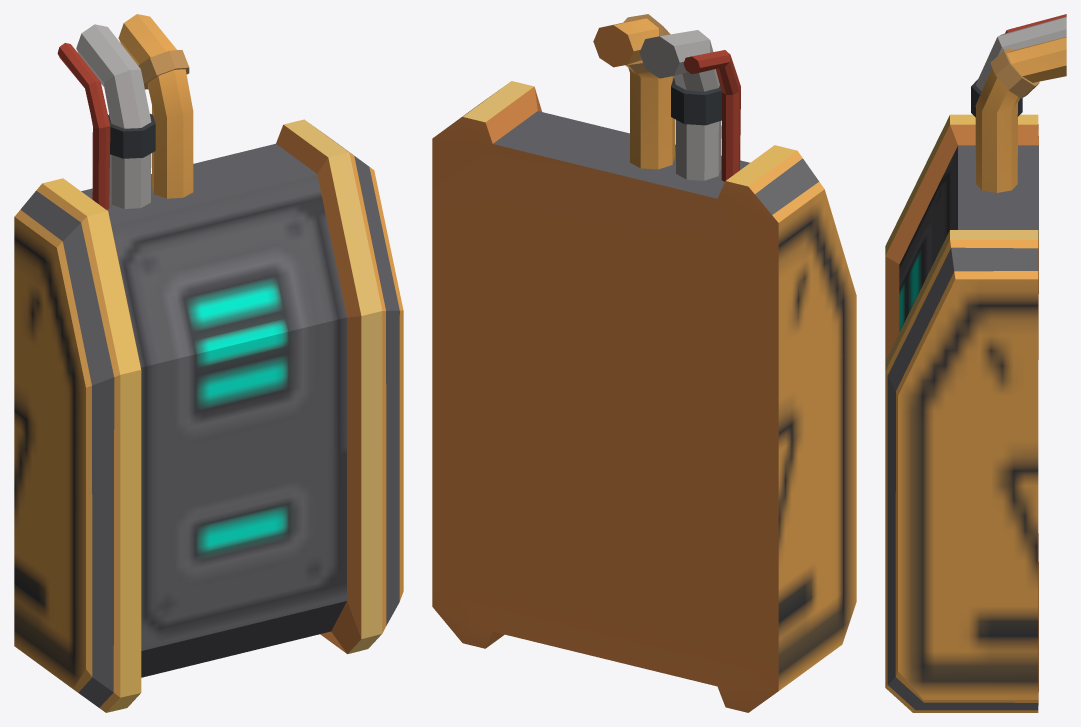
File: SM_Prop_Greebles_03.fbx
3 renders of one model, left to right at view 1: azimuth 30°, elevation 25°; view 2: azimuth 150°, elevation 25°; view 3: azimuth 270°, elevation 25°, orthographic. The views are drawn at different scales.
Visible parts, largest first — view 1: SM_Prop_Greebles_03; view 2: SM_Prop_Greebles_03; view 3: SM_Prop_Greebles_03.
Part boxes in pixels (<box>): SM_Prop_Greebles_03: <box>14,14,403,712</box>; SM_Prop_Greebles_03: <box>432,14,856,712</box>; SM_Prop_Greebles_03: <box>885,14,1066,712</box>.
Bounding box in the file's own units: 46.62 × 86.27 × 23.54.
